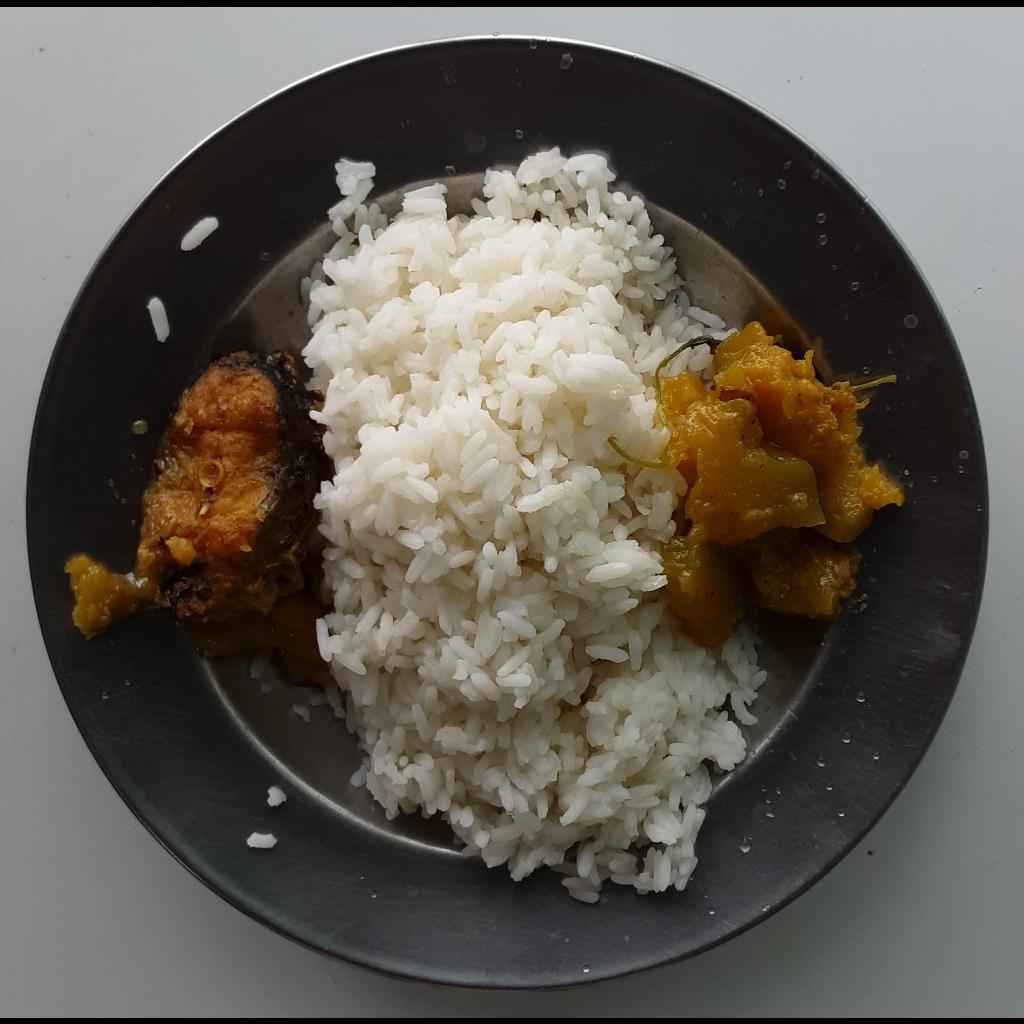fish: (67, 350, 331, 688)
kumra-vaji: (648, 316, 901, 650)
rice: (302, 147, 768, 900)
